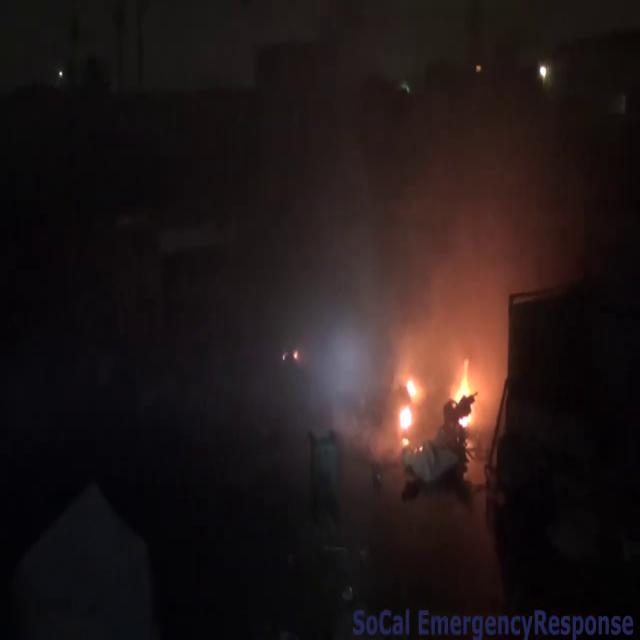Fire: (448, 352, 480, 427), (394, 369, 422, 443)
Smoke: (359, 92, 583, 372)
